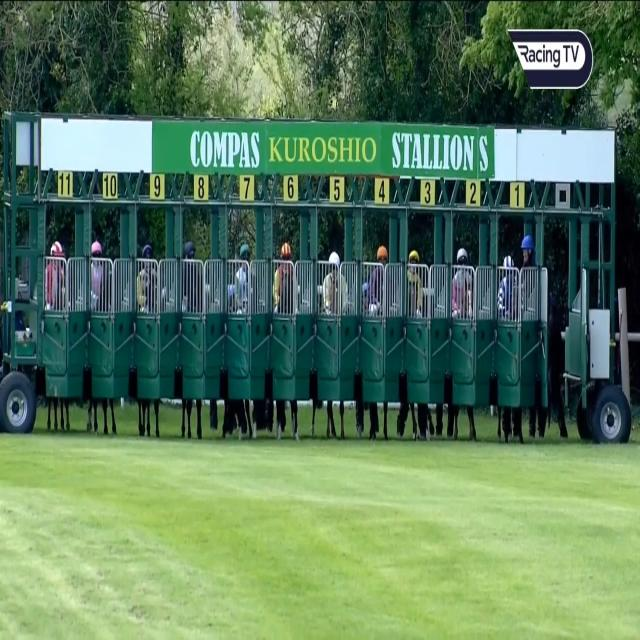horses-racing: (322, 242, 348, 319), (499, 251, 524, 330), (367, 237, 388, 328), (87, 238, 110, 320), (43, 238, 66, 312), (452, 245, 474, 322), (138, 240, 161, 310), (404, 242, 423, 324), (234, 240, 254, 316), (180, 239, 200, 312), (278, 240, 296, 321)
